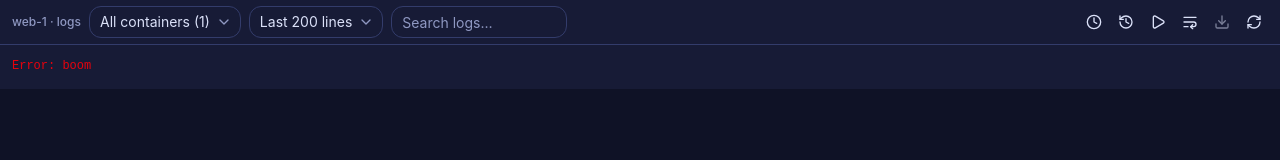
LogsView › shows an error and can refresh
The image size is (1280, 160).
Expected: the text "Error: boom" is shown, x1=12 y1=59 x2=91 y2=73
Click the button named "Refresh".
click(1254, 22)  # box x1=1240 y1=8 x2=1268 y2=36
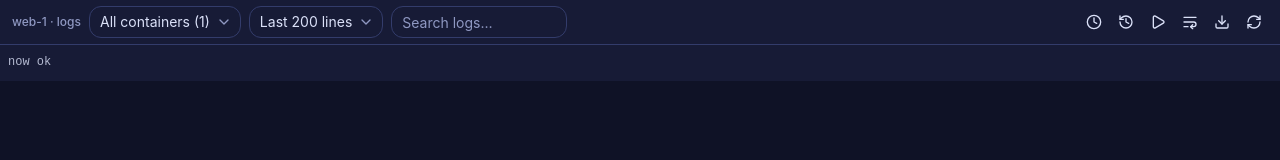
Result: the text "now ok" is shown at x1=8 y1=55 x2=51 y2=69
